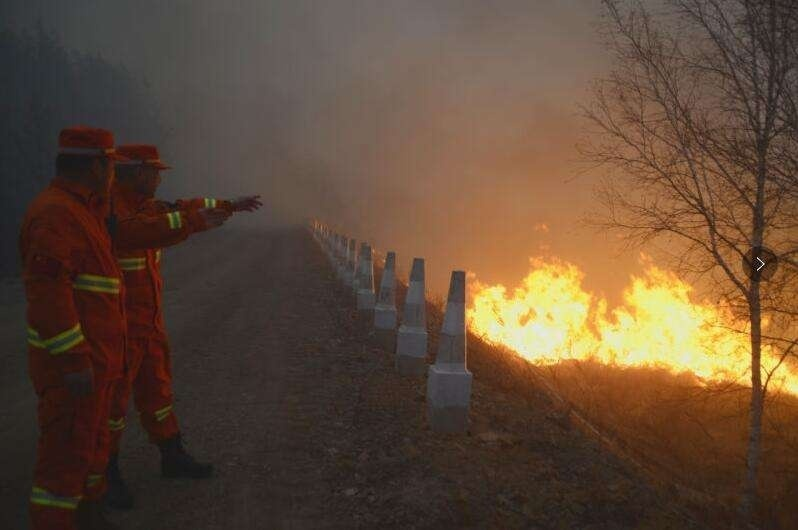fire: (467, 241, 796, 384)
